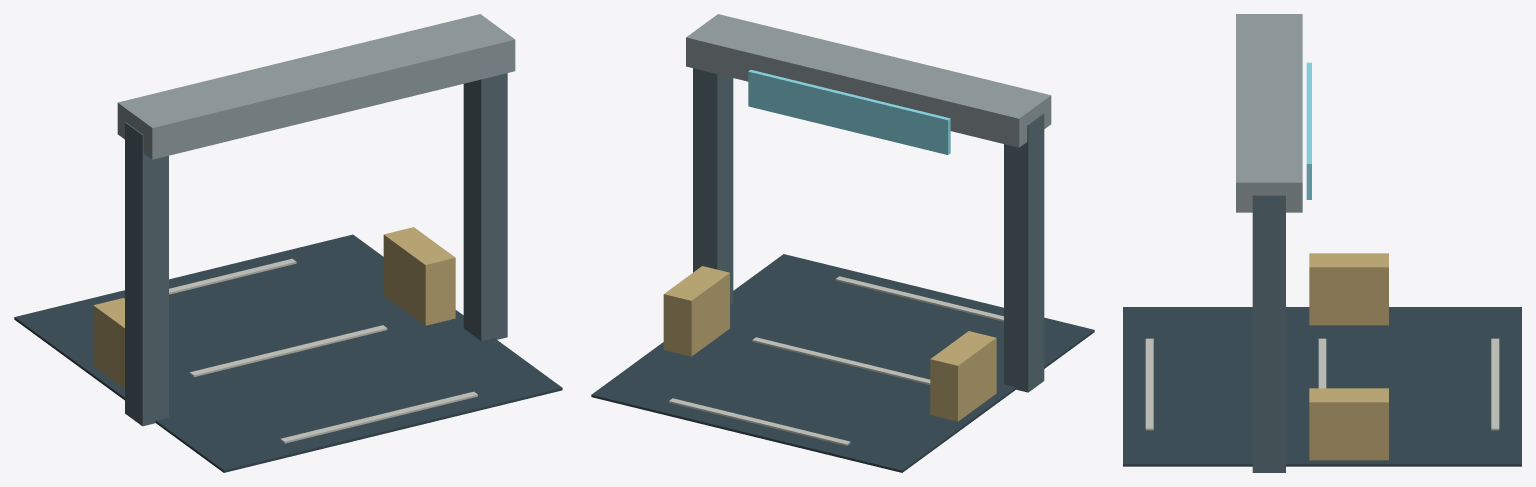
Rendered from depot-low.glb.
3 renders of one model, left to right at view 1: azimuth 30°, elevation 25°; view 2: azimuth 150°, elevation 25°; view 3: azimuth 270°, elevation 25°, orthographic. The views are drawn at different scales.
Parts seen in each view (by area): view 1: asset_depot__FP_Baked; view 2: asset_depot__FP_Baked, sign; view 3: asset_depot__FP_Baked, sign.
Boxes of the visible parts, bbox=[...] form: asset_depot__FP_Baked: bbox=[14, 14, 562, 472]; asset_depot__FP_Baked: bbox=[591, 14, 1094, 472]; sign: bbox=[748, 70, 950, 154]; asset_depot__FP_Baked: bbox=[1123, 14, 1521, 472]; sign: bbox=[1306, 62, 1311, 199].
Size of the model in its own units: 3.02 by 2.4 by 3.
